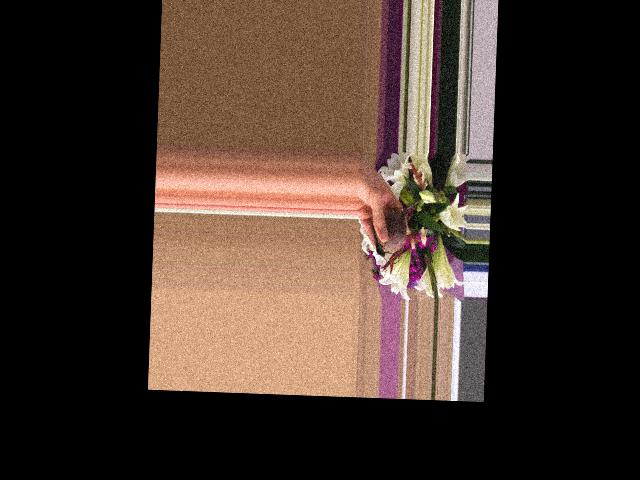beet: (374, 197, 430, 266)
